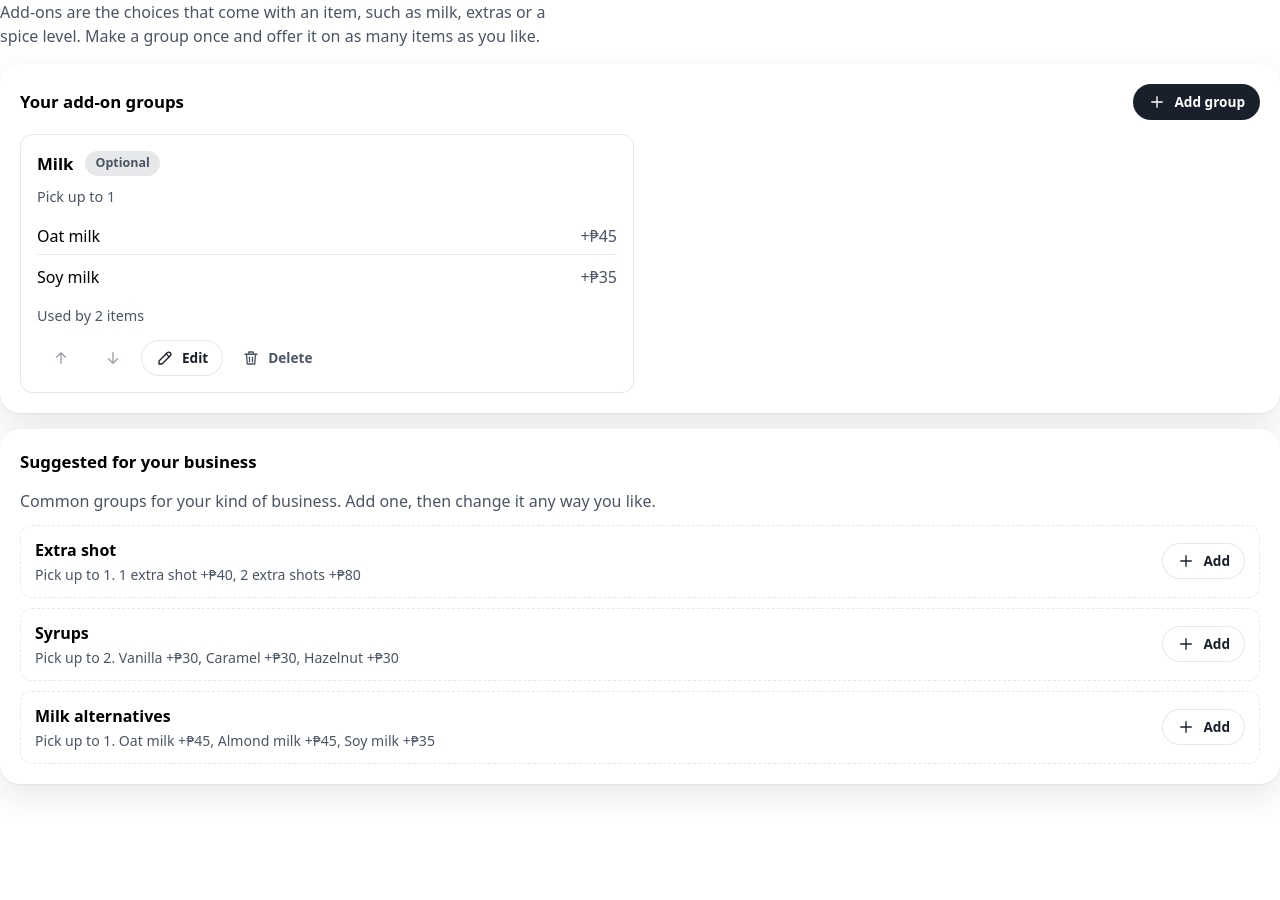
the min and max rules › turns the switch on and off as the fewest is typed
Click the button "Add group" at (1197, 102), box [1133, 84, 1260, 120]
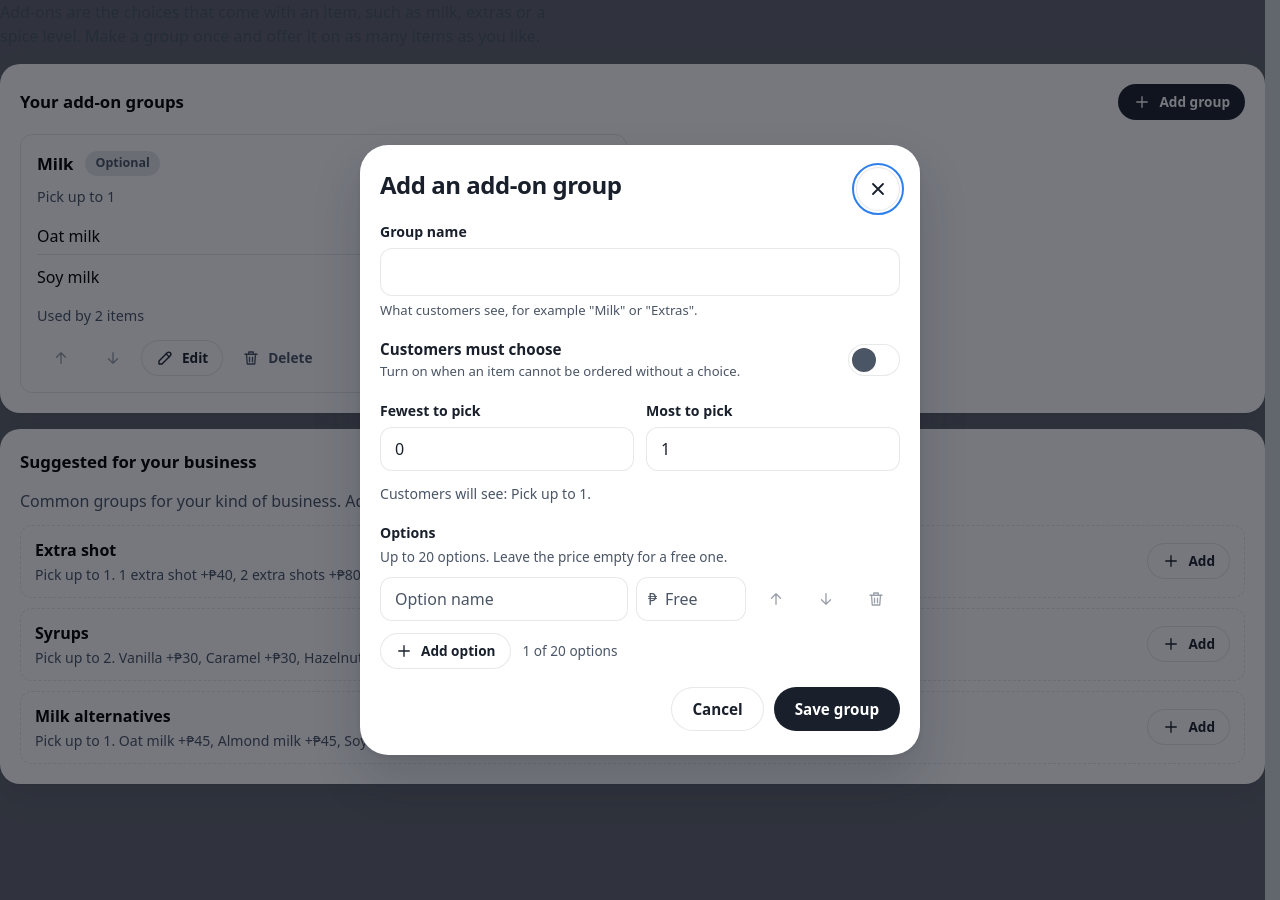
Clear the field labelled "Fewest to pick" at (507, 449), box [380, 427, 634, 471]
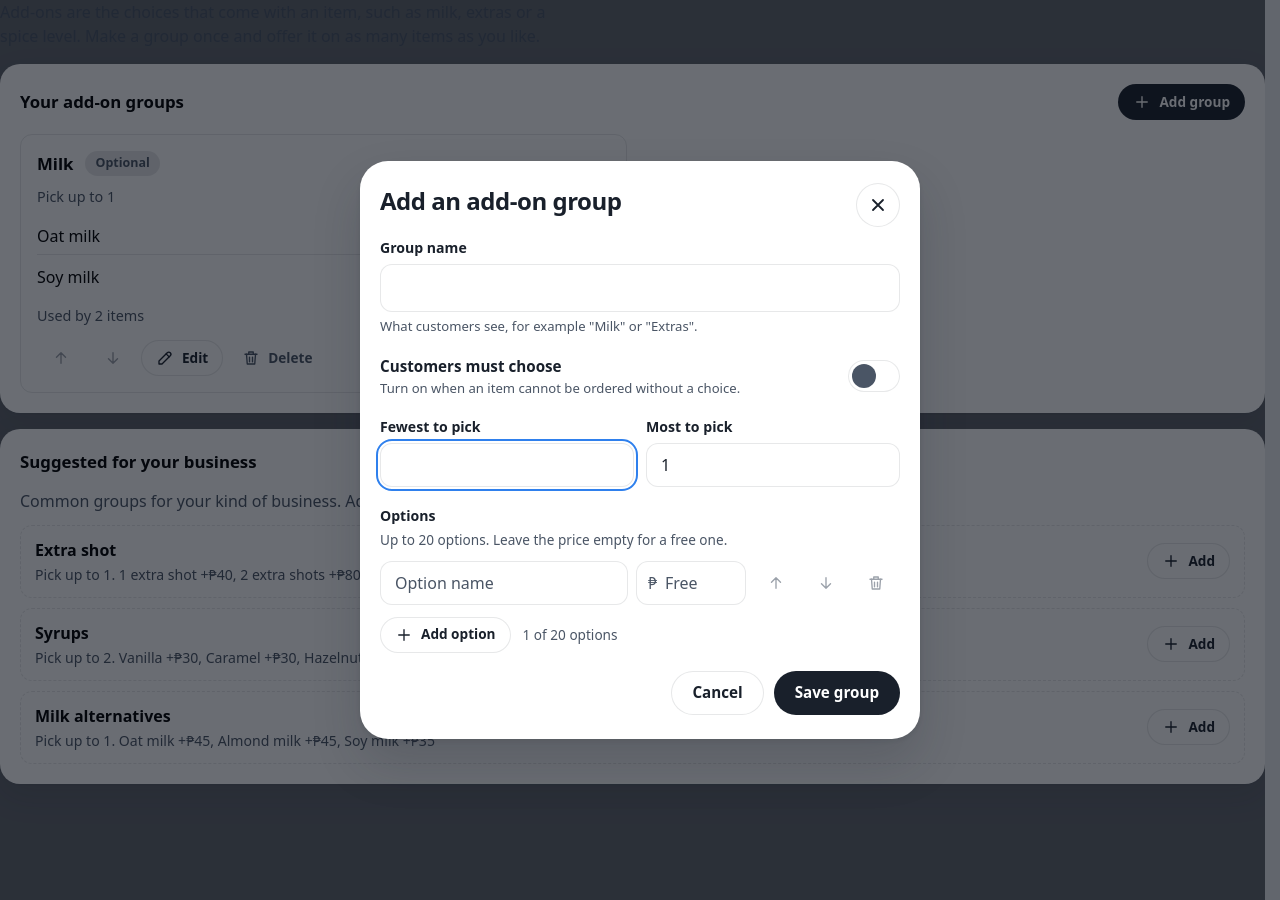
Type "1" into the field labelled "Fewest to pick" at (507, 465), box [380, 443, 634, 487]
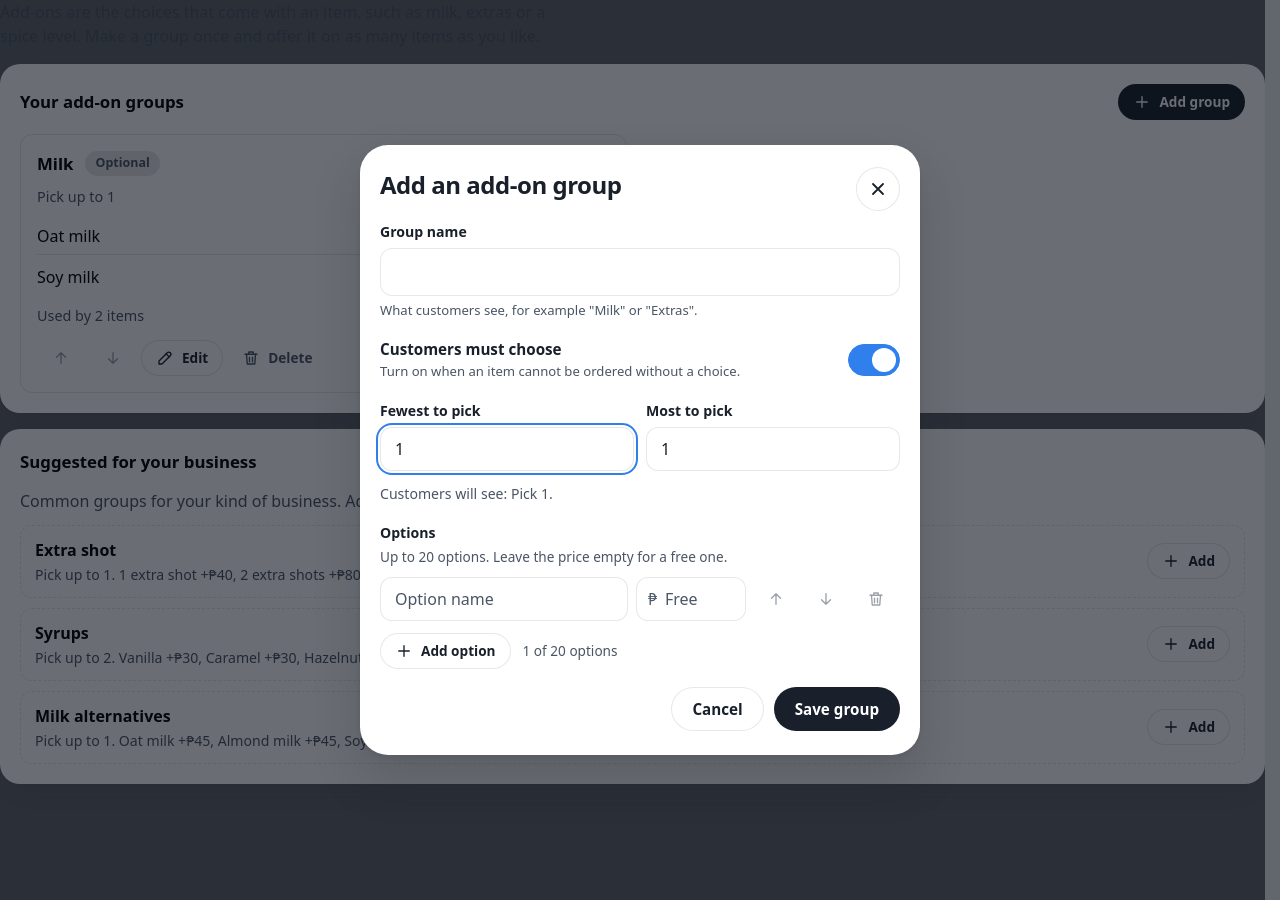
Expected: the switch named "Customers must choose" is checked, [848, 338, 900, 382]
Clear the field labelled "Fewest to pick" at (507, 449), box [380, 427, 634, 471]
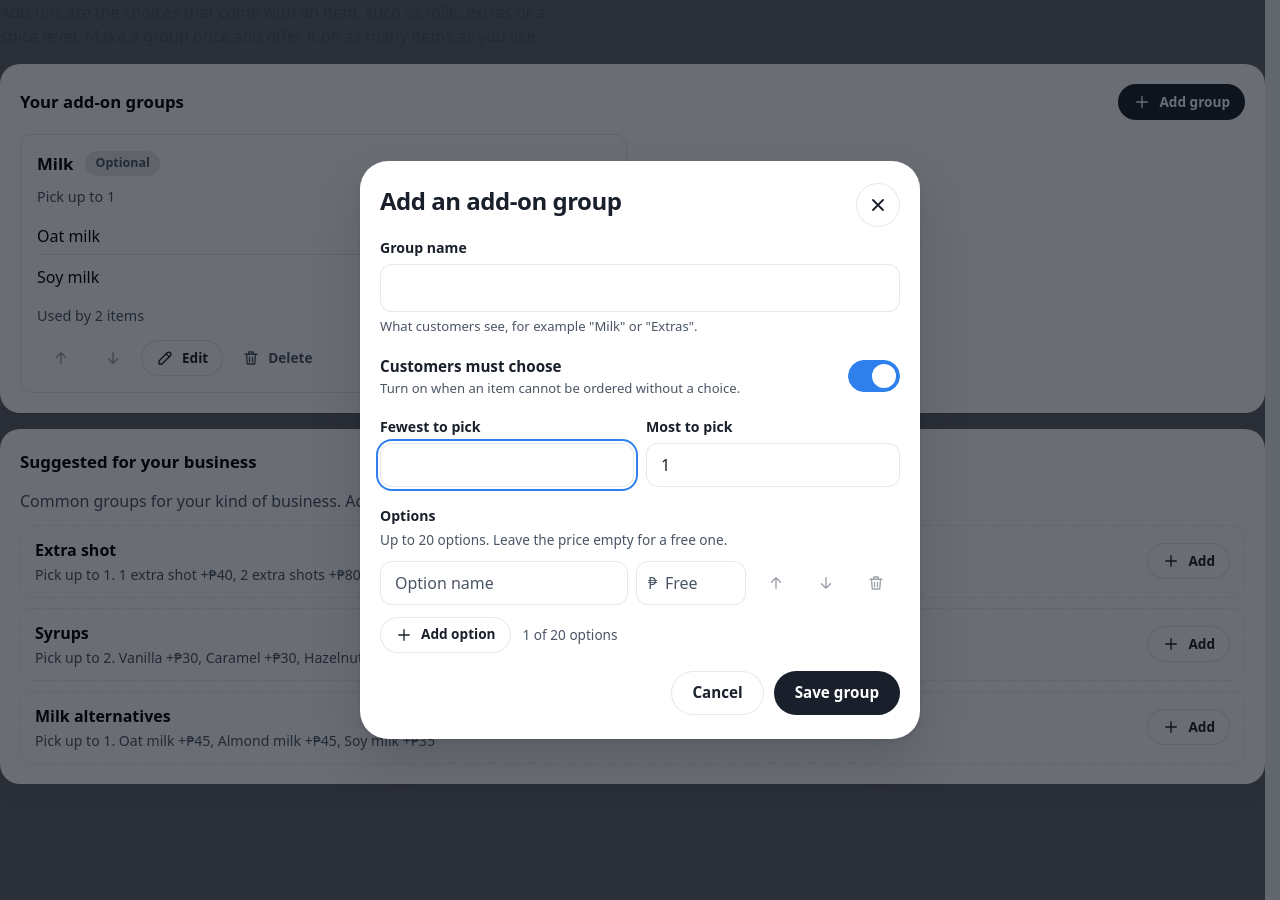
Type "0" into the field labelled "Fewest to pick" at (507, 465), box [380, 443, 634, 487]
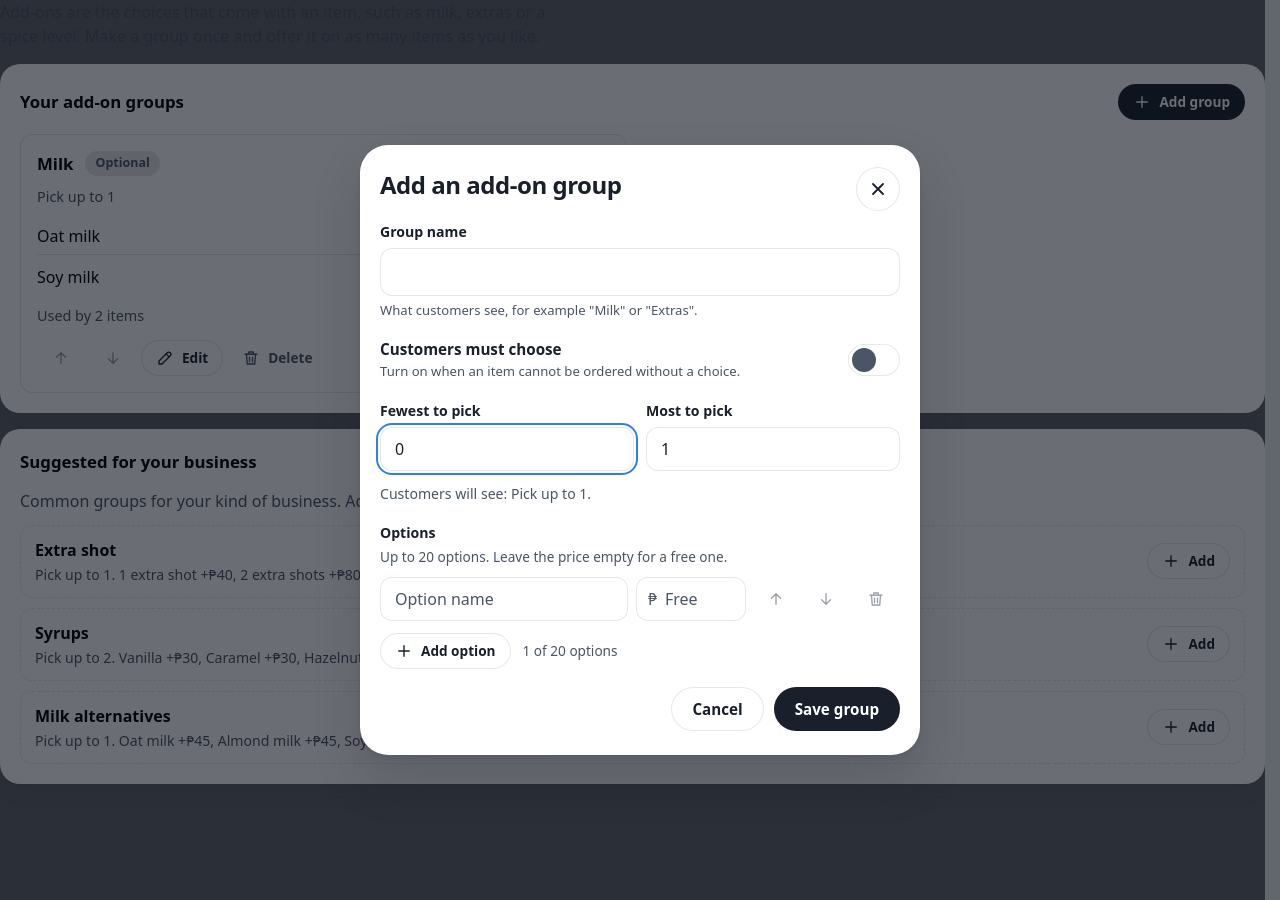
Expected: the switch named "Customers must choose" is not checked, [848, 338, 900, 382]
